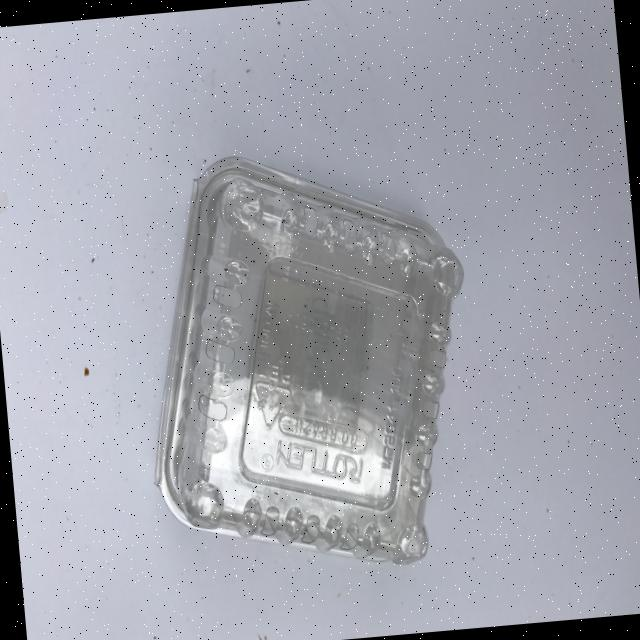plastic: (126, 136, 488, 585)
